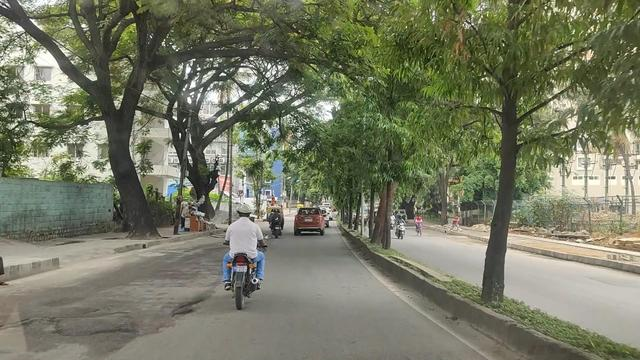LMV: (224, 202, 260, 310), (295, 207, 325, 236)
RoadDamages: (4, 310, 141, 357), (142, 267, 199, 325)
